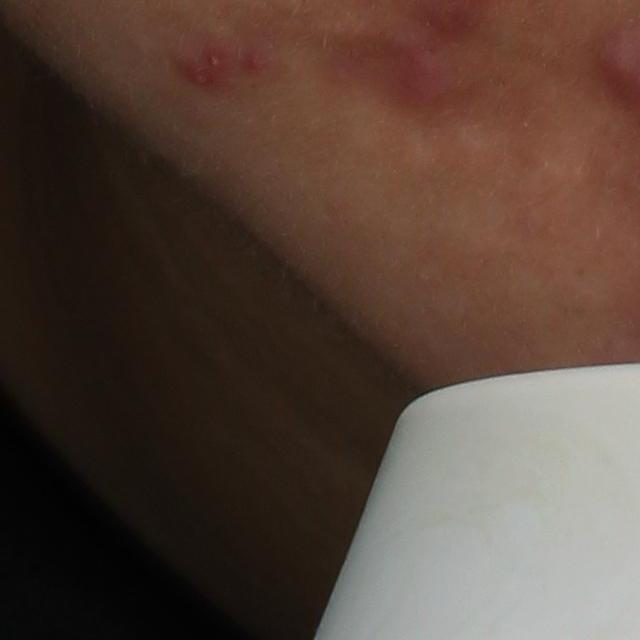papule: (391, 43, 463, 106), (179, 62, 220, 91), (205, 44, 231, 75)
